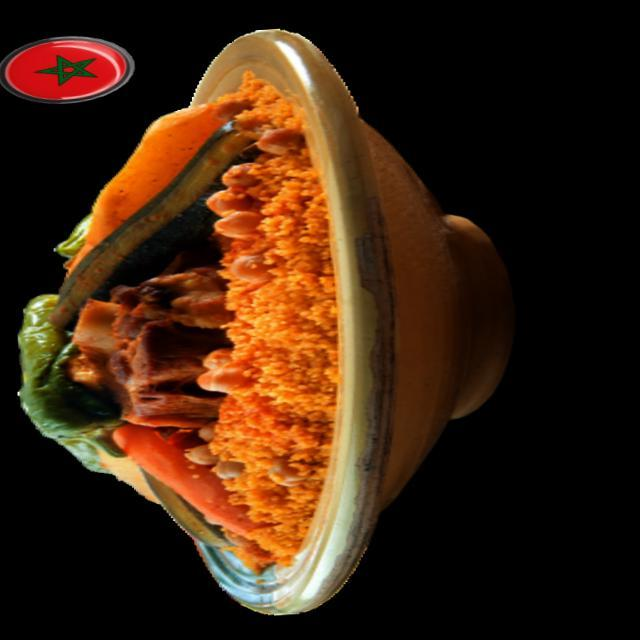Couscous: (0, 69, 363, 587)
